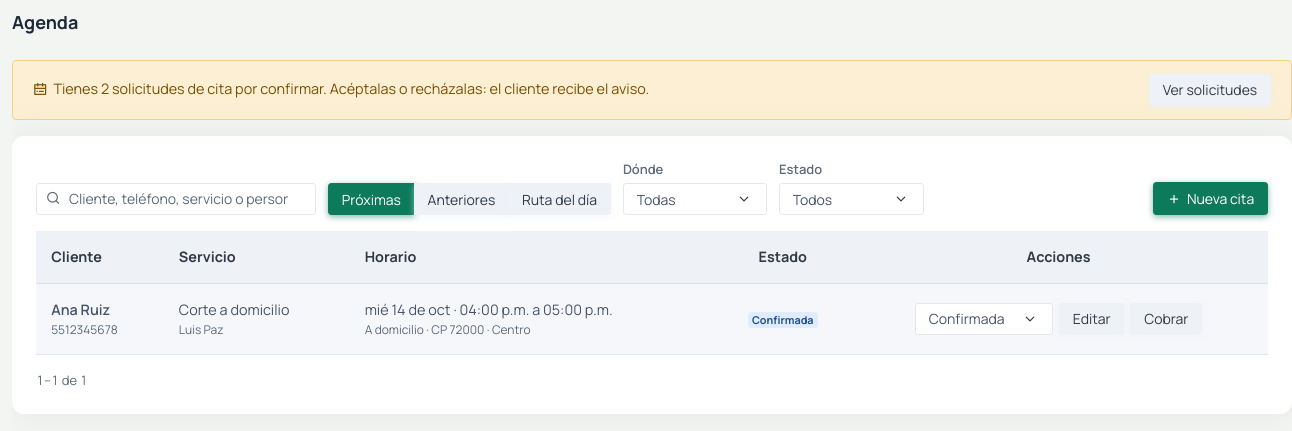
AppointmentsList › says how many requests wait and shows them, and opens on them from the notice
Check: the text "Tienes 2 solicitudes de cita por confirmar" is shown, box [53, 80, 327, 98]
Click the button "Ver solicitudes". click: (1210, 90)
box: [1149, 74, 1271, 106]
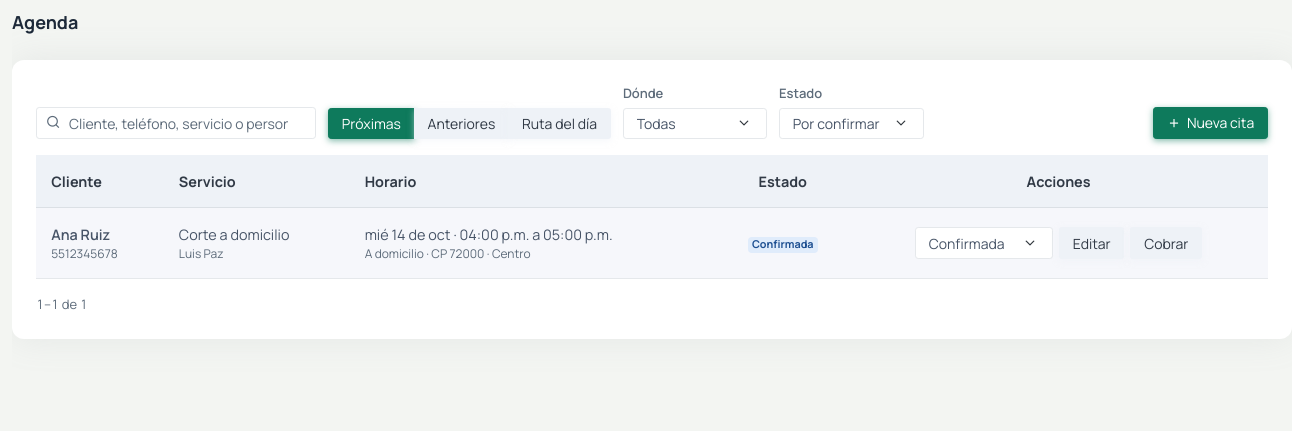
Check: the text "solicitudes de cita por confirmar" is gone
